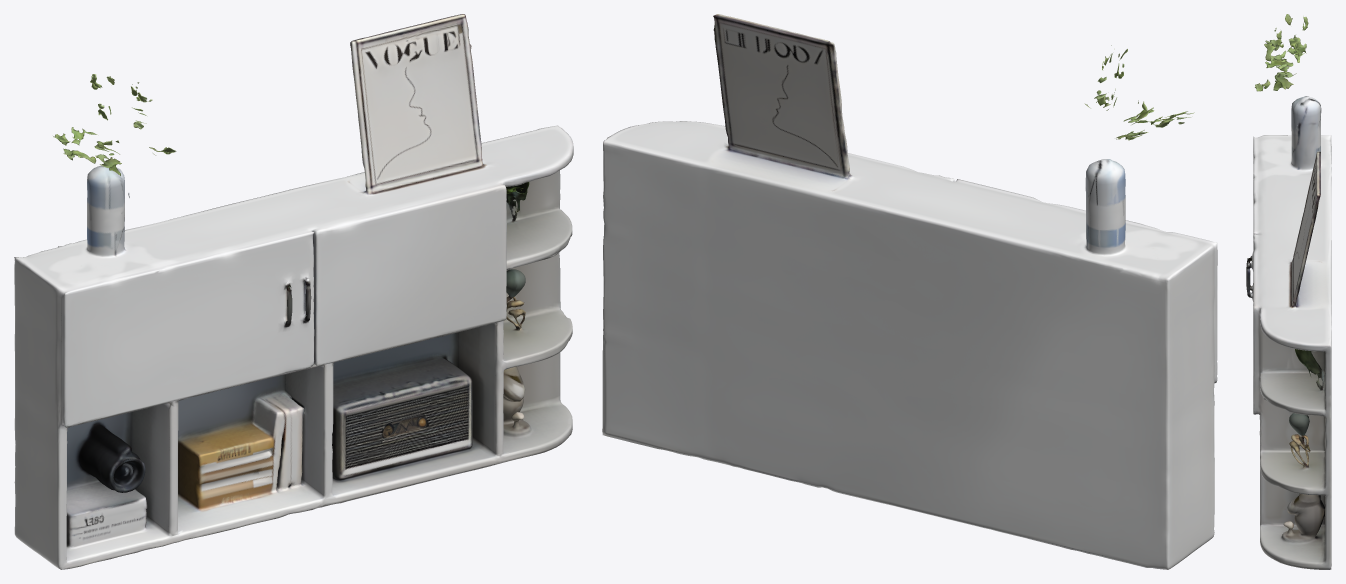
Rendered from 挂壁柜 (2).fbx.
The picture shows the model from 3 angles, left to right: view 1: azimuth 30°, elevation 25°; view 2: azimuth 150°, elevation 25°; view 3: azimuth 270°, elevation 25°; orthographic projection. The views are drawn at different scales.
Visible parts, largest first — view 1: model; view 2: model; view 3: model.
Boxes of the visible parts, x1,y1,x2,y2 form: model: (14,14,573,569); model: (602,14,1217,569); model: (1246,14,1331,569).
Bounding box in the file's own units: 176 × 144 × 30.04.
Materials: 1 (1 with a texture image).
